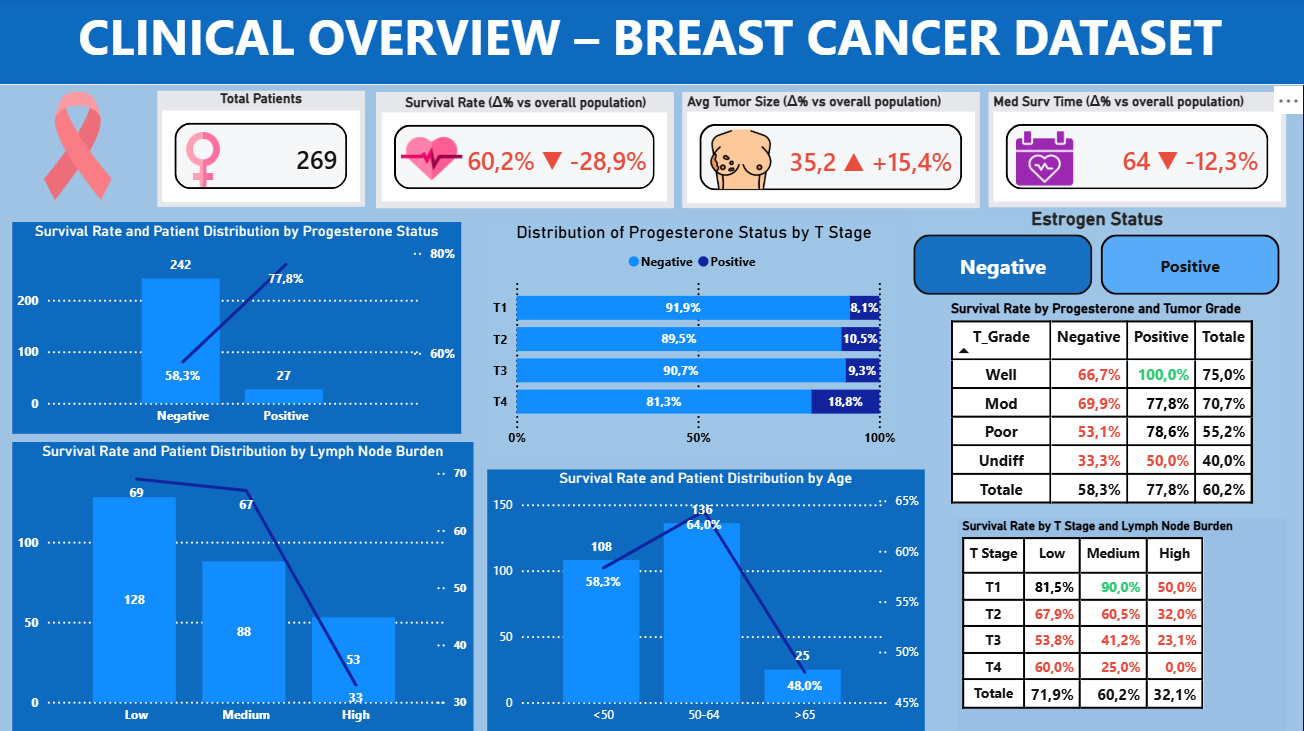

The dashboard page shown, as its layout file describes it:
{"tool":"powerbi","page":{"name":"Pagina 2","canvas":[1280,720],"ordinal":1},"visuals":[{"type":"cardVisual","title":"Survival Rate (Δ% vs overall population)","fields":{"Data":["dati.KPI Survival"]},"box":[371.7,92.9,291,113.7],"z":0},{"type":"advancedSlicerVisual","fields":{"Values":["dati.Estrogen Status"]},"box":[892.8,206.3,369.2,90.5],"z":1000},{"type":"cardVisual","title":"Avg Tumor Size (Δ% vs overall population)","fields":{"Data":["dati.KPI Tumor Size"]},"box":[671.3,92.9,291,113.7],"z":2000},{"type":"cardVisual","title":"Med Surv Time (Δ% vs overall population)","fields":{"Data":["dati.KPI Median Survival"]},"box":[970.9,92.9,291,112.5],"z":3000},{"type":"actionButton","box":[0,0,100,40],"z":4000},{"type":"cardVisual","title":"Total Patients","fields":{"Data":["dati.Total patient"]},"box":[157.3,92,203.3,113.7],"z":5000},{"type":"pivotTable","title":"Survival Rate by T Stage and Lymph Node Burden","fields":{"Columns":["dati.LODDS Category"],"Values":["dati.Survival Rate"],"Rows":["dati.T Stage "]},"box":[940,509.8,340.3,208],"z":6000},{"type":"lineStackedColumnComboChart","title":"Survival Rate and Patient Distribution by Age ","fields":{"Category":["dati.age cat"],"Y":["CountNonNull(dati.age cat)"],"Y2":["dati.Survival Rate"]},"box":[480.3,462.3,427.6,258.1],"z":7000},{"type":"lineStackedColumnComboChart","title":"Survival Rate and Patient Distribution by Lymph Node Burden","fields":{"Category":["dati.LODDS Category"],"Y":["CountNonNull(dati.LODDS Category)"],"Y2":["dati.Median Survival (Months)"]},"box":[15.7,435.5,451.2,284.7],"z":8000},{"type":"pivotTable","title":"Survival Rate by Progesterone and Tumor Grade","fields":{"Rows":["dati.Grade Short"],"Values":["dati.Survival Rate"],"Columns":["dati.Progesterone Status"]},"box":[929.7,296.6,332.6,213.2],"z":9000},{"type":"hundredPercentStackedBarChart","title":"Distribution of Progesterone Status by T Stage","fields":{"Category":["dati.T Stage "],"Y":["CountNonNull(dati.T Stage )"],"Series":["dati.Progesterone Status"]},"box":[480.6,220.1,404.8,229.9],"z":10000},{"type":"textbox","box":[0,0,1280.3,85.6],"z":11000},{"type":"image","box":[2.4,85.9,154.9,119.8],"z":12000},{"type":"image","box":[395.9,93.8,59.7,127.9],"z":13000},{"type":"image","box":[693.4,122.2,70.2,71.4],"z":14000},{"type":"image","box":[998.3,122.2,55.7,71.4],"z":15000},{"type":"image","box":[159.7,131.9,84.7,53.2],"z":16000},{"type":"lineStackedColumnComboChart","title":"Survival Rate and Patient Distribution by Progesterone Status","fields":{"Category":["dati.Progesterone Status"],"Y":["CountNonNull(dati.Progesterone Status)"],"Y2":["dati.Survival Rate"]},"box":[15.7,219.6,439.1,207.5],"z":17000}]}

Visuals, with their boxes in screenshot pixels (x1, y1, x2, y2), scaled from the page's 1280x720 canvas onto the 1304x731 screenshot:
"Survival Rate (Δ% vs overall population)" cardVisual: bbox(379, 94, 675, 210)
advancedSlicerVisual - dati.Estrogen Status: bbox(910, 209, 1286, 301)
"Avg Tumor Size (Δ% vs overall population)" cardVisual: bbox(684, 94, 980, 210)
"Med Surv Time (Δ% vs overall population)" cardVisual: bbox(989, 94, 1286, 209)
actionButton: bbox(0, 0, 102, 41)
"Total Patients" cardVisual: bbox(160, 93, 367, 209)
"Survival Rate by T Stage and Lymph Node Burden" pivotTable: bbox(958, 518, 1303, 729)
"Survival Rate and Patient Distribution by Age " lineStackedColumnComboChart: bbox(489, 469, 925, 730)
"Survival Rate and Patient Distribution by Lymph Node Burden" lineStackedColumnComboChart: bbox(16, 442, 476, 730)
"Survival Rate by Progesterone and Tumor Grade" pivotTable: bbox(947, 301, 1286, 518)
"Distribution of Progesterone Status by T Stage" hundredPercentStackedBarChart: bbox(490, 223, 902, 457)
textbox: bbox(0, 0, 1303, 87)
image: bbox(2, 87, 160, 209)
image: bbox(403, 95, 464, 225)
image: bbox(706, 124, 778, 197)
image: bbox(1017, 124, 1074, 197)
image: bbox(163, 134, 249, 188)
"Survival Rate and Patient Distribution by Progesterone Status" lineStackedColumnComboChart: bbox(16, 223, 463, 434)
